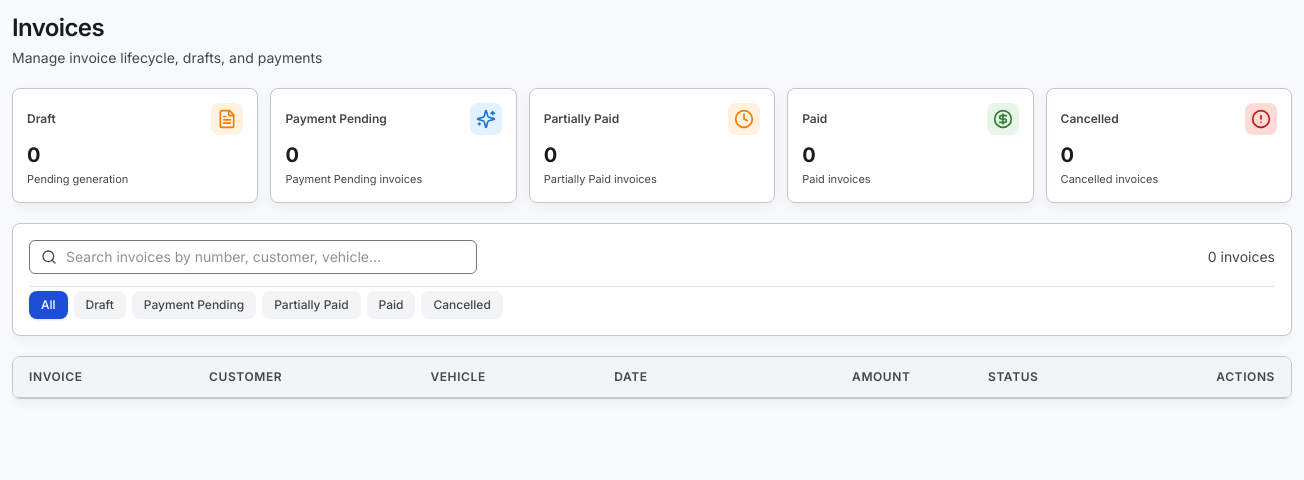
Test: Invoices List Component & Status Display › Invoice Search Enhancements (Job Card Number Support) › forwards Invoice Number search to getInvoices and renders matching invoice
Type "INV-2026-000019" into the field with placeholder "Search invoices by number, customer, vehicle..." at [253, 256], box [29,240,477,274]
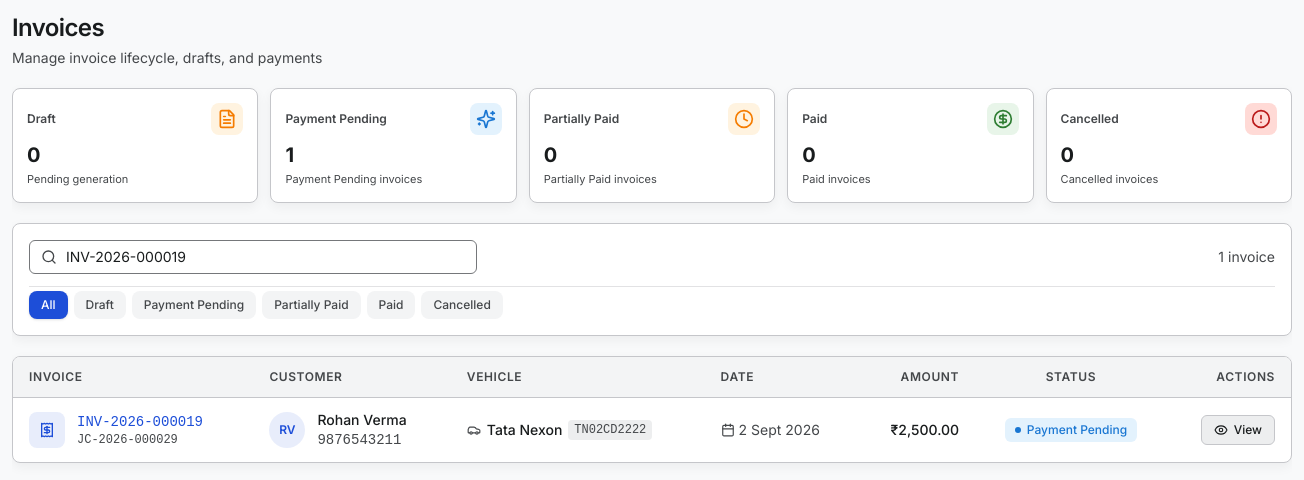
Expected: the text "INV-2026-000019" is shown, [77,412,203,432]
